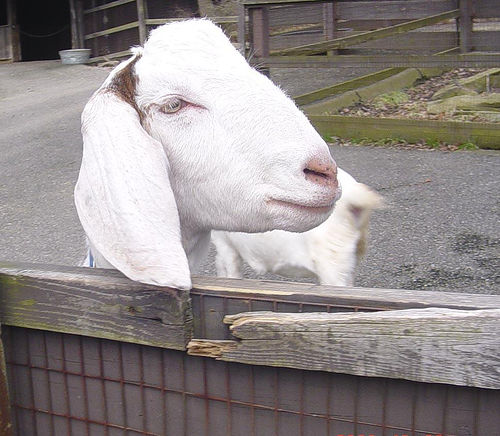goat: (73, 16, 343, 290)
